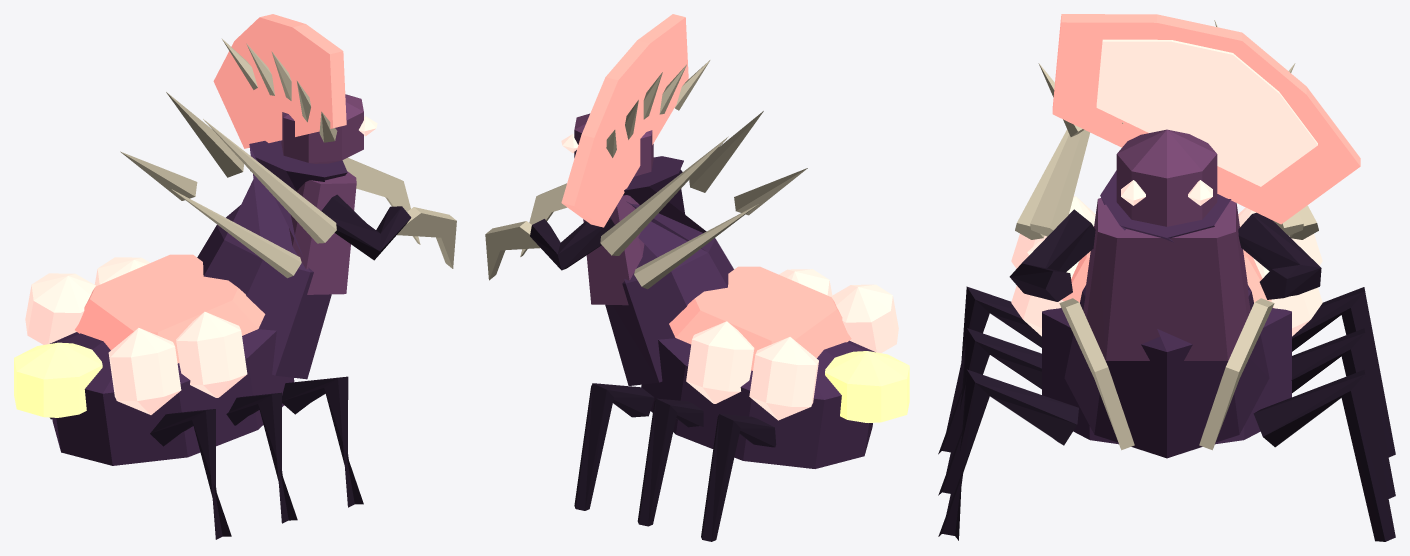
File: brood_keeper.glb
The picture shows the model from 3 angles, left to right: view 1: azimuth 30°, elevation 25°; view 2: azimuth 150°, elevation 25°; view 3: azimuth 270°, elevation 25°; orthographic projection. The views are drawn at different scales.
Parts seen in each view (by area): view 1: Surf_chit, Surf_TEAM, Surf_GLOW, Surf_bone, Surf_dark, Surf_warm, Surf_acid; view 2: Surf_chit, Surf_TEAM, Surf_dark, Surf_GLOW, Surf_bone, Surf_acid, Surf_warm; view 3: Surf_dark, Surf_warm, Surf_GLOW, Surf_chit, Surf_TEAM, Surf_bone.
Part boxes in pixels (x1,y1,x2,y2): Surf_chit: (50,140,347,465); Surf_TEAM: (75,14,346,363); Surf_GLOW: (25,116,377,414); Surf_bone: (120,39,456,278); Surf_dark: (50,194,411,539); Surf_warm: (281,94,363,294); Surf_acid: (14,342,102,417); Surf_chit: (605,156,875,468); Surf_TEAM: (561,14,851,370); Surf_dark: (530,169,776,541); Surf_GLOW: (561,134,898,420); Surf_bone: (485,60,807,289); Surf_acid: (825,351,909,422); Surf_warm: (574,113,653,305); Surf_dark: (938,209,1395,541); Surf_warm: (1083,129,1250,360); Surf_GLOW: (1011,39,1322,336); Surf_chit: (1042,170,1291,458); Surf_TEAM: (1052,14,1360,302); Surf_bone: (1015,20,1318,450).
Bounding box in the file's own units: 2.79 × 2.66 × 2.05.
